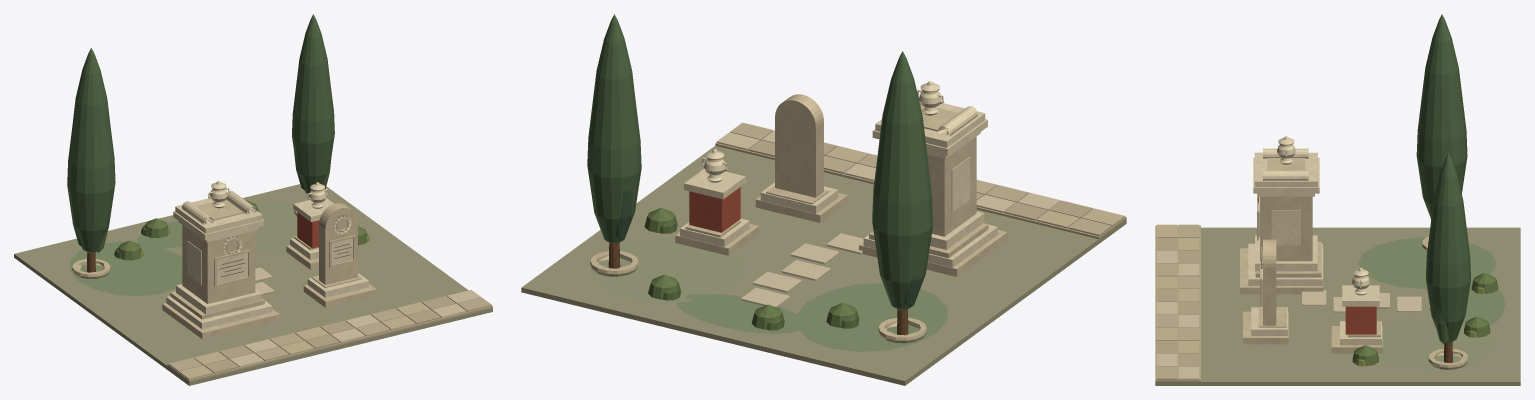
File: verona_tombs_altar.glb
3 renders of one model, left to right at view 1: azimuth 30°, elevation 25°; view 2: azimuth 150°, elevation 25°; view 3: azimuth 270°, elevation 25°, orthographic. The views are drawn at different scales.
Parts seen in each view (by area): view 1: Garden_earth.001, Cypress_middle.001, Limestone_trim.001, Travertine.001, Travertine.002, Quiet_turf.001, Limestone_trim.002, Garden_earth.002, Paving_1.001, Cypress_middle.002, Paving_2.001, Dry_turf.001 (+7 smaller); view 2: Garden_earth.001, Garden_earth.002, Cypress_middle.001, Travertine.001, Quiet_turf.001, Travertine.002, Limestone_trim.001, Dry_turf.003, Limestone_trim.002, Paving_2.001, Cypress_middle.002, Paving_1.001 (+11 smaller); view 3: Garden_earth.001, Garden_earth.002, Cypress_middle.001, Limestone_trim.001, Travertine.001, Travertine.002, Quiet_turf.001, Limestone_trim.002, Dry_turf.003, Cypress_middle.002, Paving_2.001, Paving_1.001 (+8 smaller).
Part boxes in pixels (x1,y1,x2,y2): Garden_earth.001: (14, 184, 467, 384); Cypress_middle.001: (67, 14, 334, 253); Limestone_trim.001: (168, 181, 363, 327); Travertine.001: (72, 203, 375, 337); Travertine.002: (77, 199, 376, 339); Quiet_turf.001: (69, 221, 182, 296); Limestone_trim.002: (166, 189, 369, 329); Garden_earth.002: (14, 184, 492, 385); Paving_1.001: (167, 296, 491, 381); Cypress_middle.002: (71, 61, 333, 252); Paving_2.001: (181, 243, 481, 367); Dry_turf.001: (255, 202, 297, 254); Garden_earth.001: (522, 146, 1097, 384); Garden_earth.002: (521, 145, 1126, 385); Cypress_middle.001: (587, 14, 933, 310); Travertine.001: (590, 94, 1006, 343); Quiet_turf.001: (676, 283, 947, 351); Travertine.002: (594, 105, 1007, 337); Limestone_trim.001: (681, 81, 995, 265); Dry_turf.003: (595, 238, 743, 301); Limestone_trim.002: (680, 91, 997, 267); Paving_2.001: (716, 130, 1061, 307); Cypress_middle.002: (588, 71, 931, 243); Paving_1.001: (715, 140, 1126, 238); Garden_earth.001: (1156, 228, 1519, 385); Garden_earth.002: (1155, 227, 1520, 385); Cypress_middle.001: (1416, 14, 1470, 342); Limestone_trim.001: (1249, 136, 1380, 344); Travertine.001: (1241, 196, 1468, 369); Travertine.002: (1240, 158, 1466, 364); Quiet_turf.001: (1358, 237, 1505, 325); Limestone_trim.002: (1248, 152, 1381, 345); Dry_turf.003: (1377, 318, 1496, 371); Cypress_middle.002: (1417, 68, 1468, 342); Paving_2.001: (1156, 250, 1430, 379); Paving_1.001: (1155, 226, 1200, 381).
Bounding box in the file's own units: 9.2 × 6.6 × 9.2.
18 materials, 4 textured.
